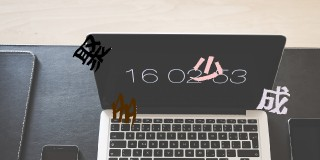多: (106, 93, 139, 126)
少: (188, 51, 224, 83)
成: (255, 82, 291, 118)
聚: (73, 35, 113, 71)
